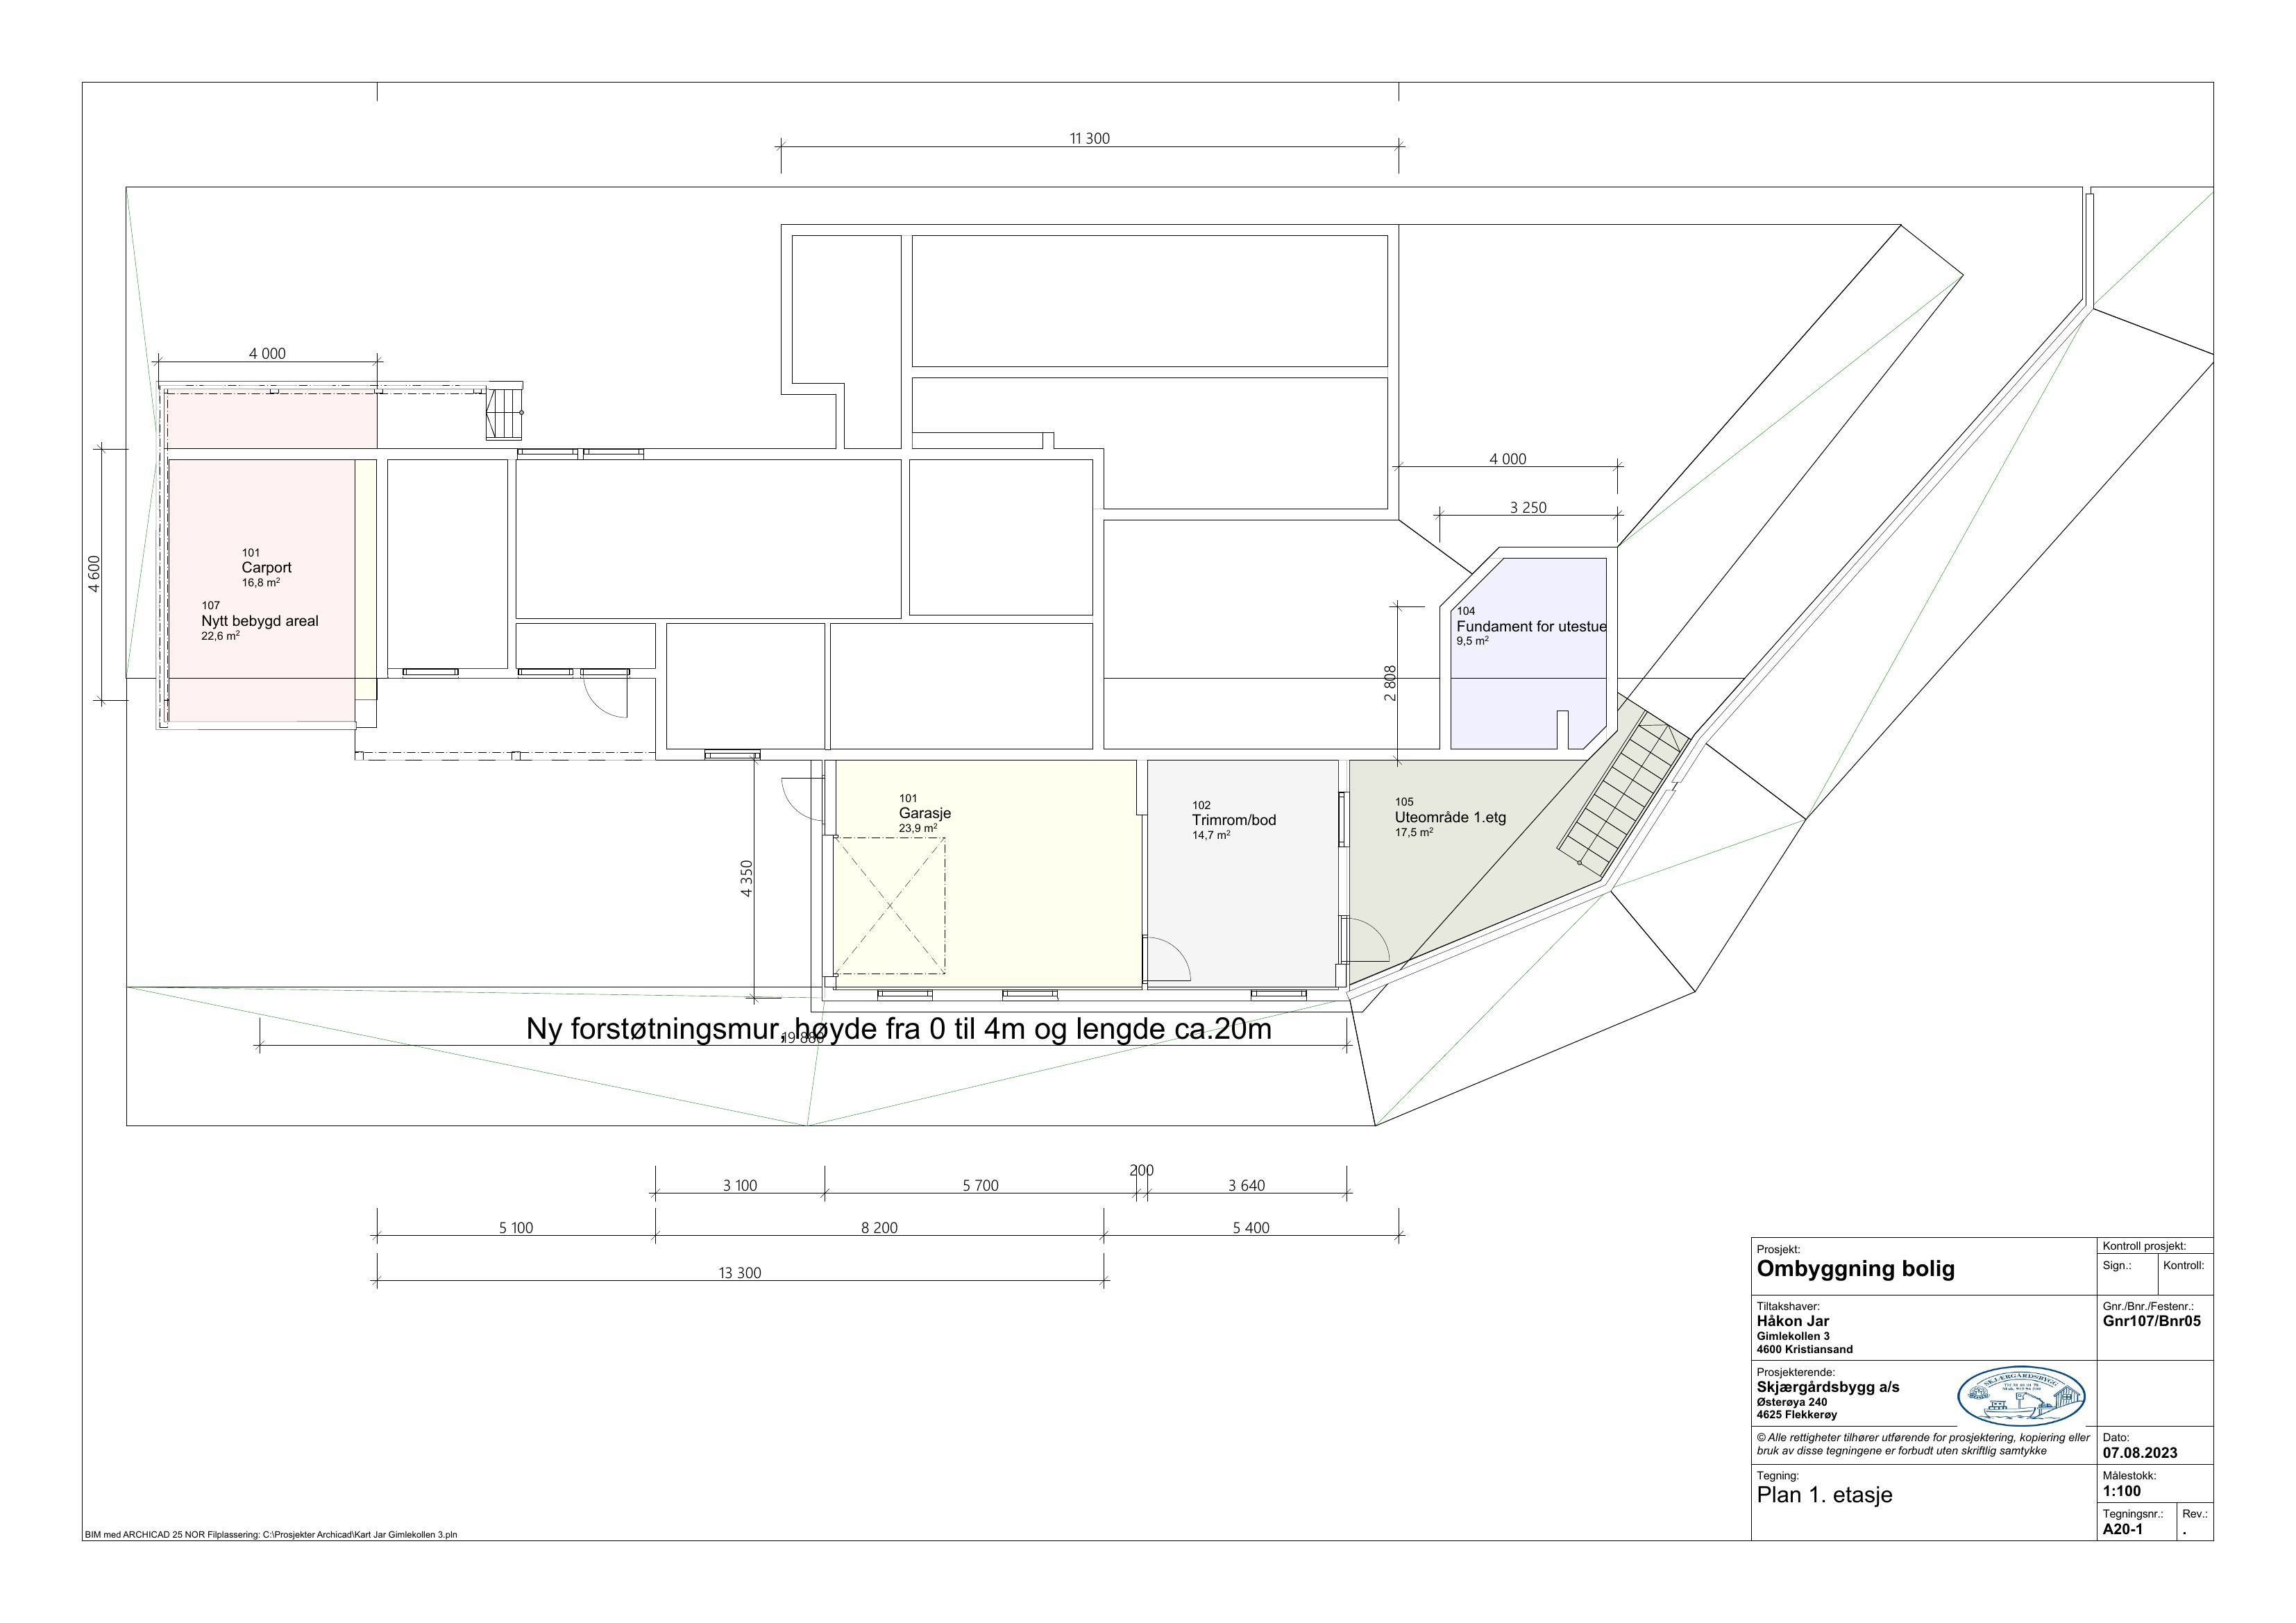plantegning: (132, 197, 1839, 1112)
